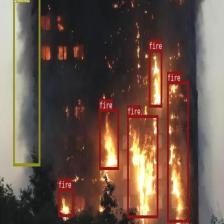fire: (127, 114, 158, 218), (166, 81, 188, 222), (99, 109, 118, 169), (148, 49, 162, 107), (58, 188, 73, 216)
smoke: (12, 0, 40, 166)
